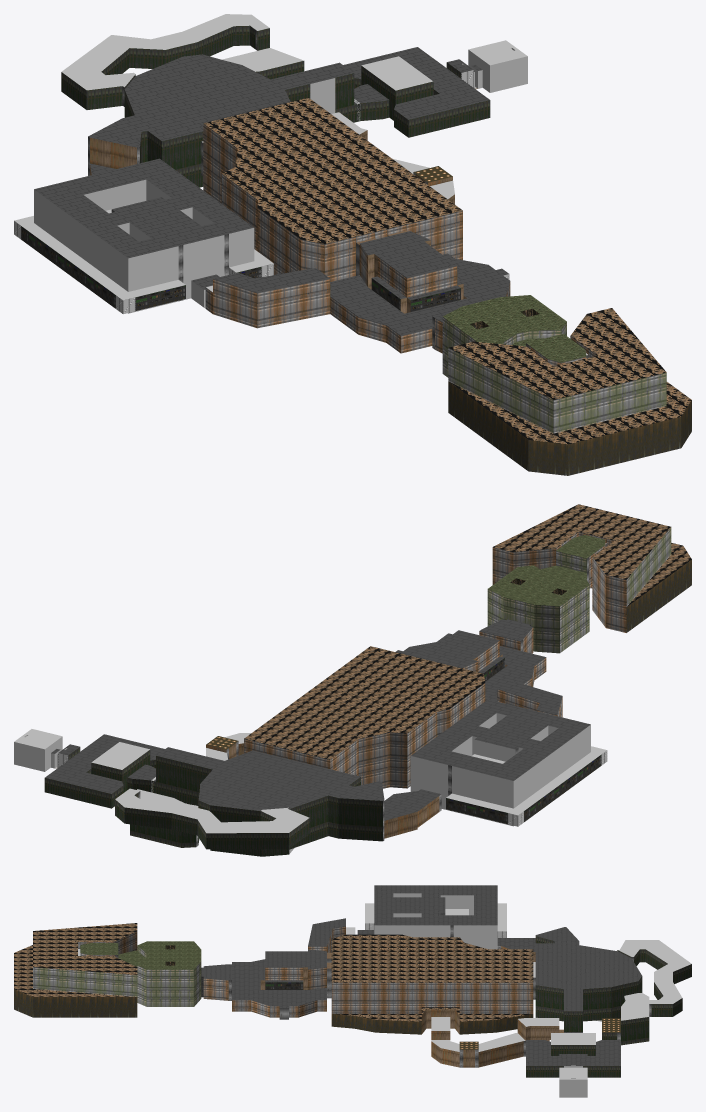
The model's file is doom.obj.
3 renders of one model, top to bottom at view 1: azimuth 30°, elevation 25°; view 2: azimuth 150°, elevation 25°; view 3: azimuth 270°, elevation 25°, orthographic. The views are drawn at different scales.
Parts seen in each view (by area): view 1: E1M1_TLITE6_6_0; view 2: E1M1_TLITE6_6_0; view 3: E1M1_TLITE6_6_0.
Part boxes in pixels (x1=…): E1M1_TLITE6_6_0: x1=14, y1=14, x2=691, y2=475; E1M1_TLITE6_6_0: x1=14, y1=504, x2=691, y2=856; E1M1_TLITE6_6_0: x1=14, y1=885, x2=691, y2=1097.
Size of the model in its own units: 113 by 19.2 by 183.
Materials: 55 (26 with a texture image).
